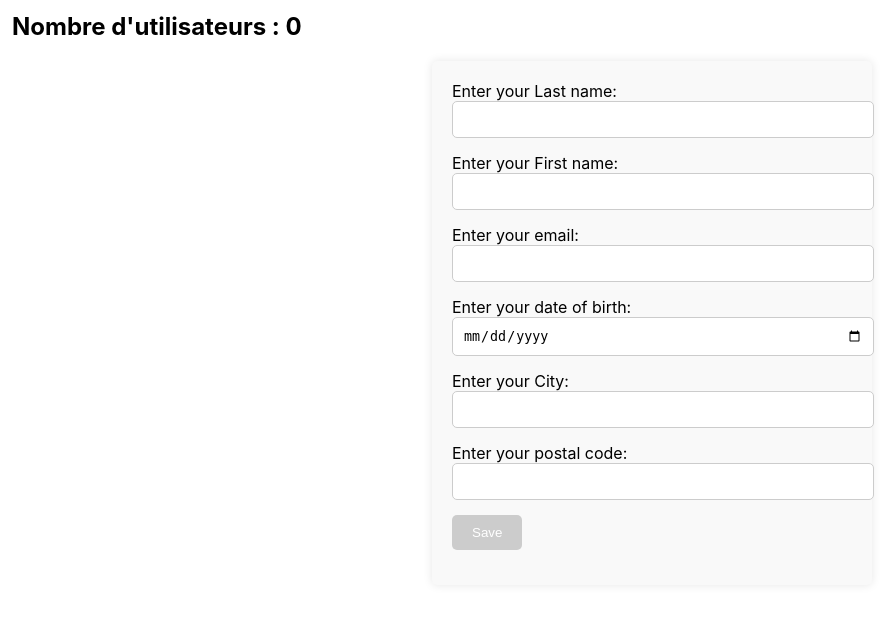
Form › validates last name field
Note: Valid last name
Type "Dupont" into the field labelled "Enter your Last name:".
click(663, 119); type("Dupont")  # box x1=452 y1=101 x2=874 y2=138
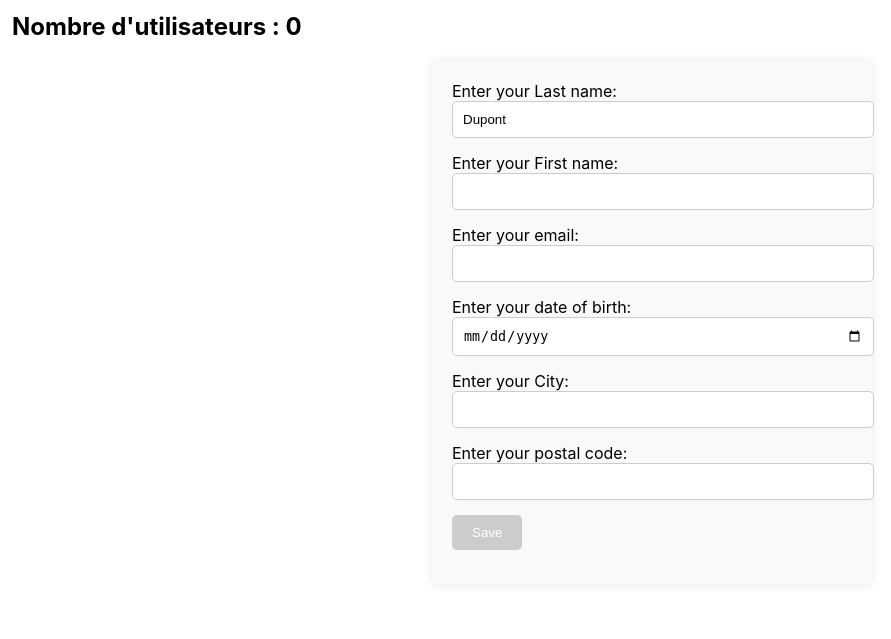
Expected: the text "Le nom ne doit contenir que des lettres, accents ou tirets." is not shown
Note: Invalid last name
Replace the text in the field labelled "Enter your Last name:" with "Dupont123" at coordinates (663, 119), box x1=452 y1=101 x2=874 y2=138
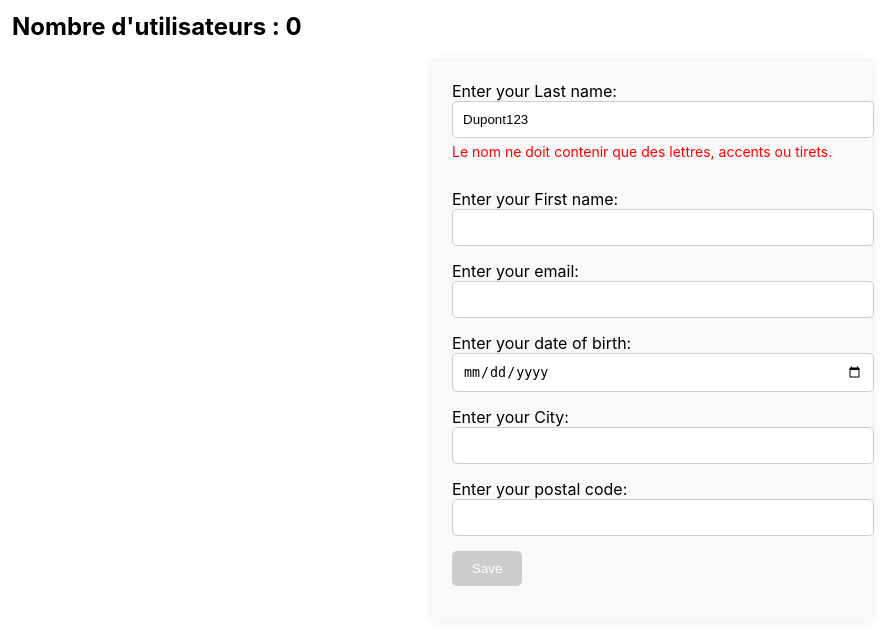
Expected: the text "Le nom ne doit contenir que des lettres, accents ou tirets." is shown, x1=452 y1=143 x2=852 y2=160
